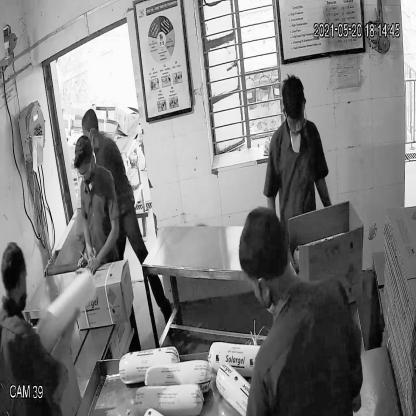goggles: (283, 108, 309, 134)
